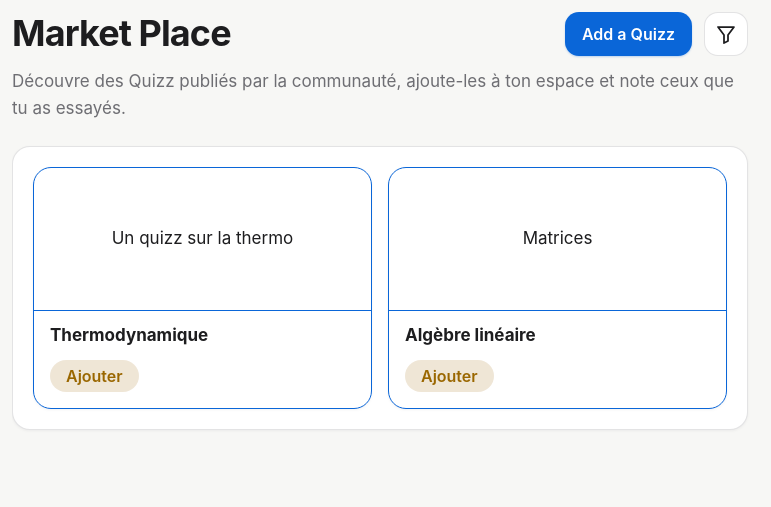
Test: MarketplacePage › filters listings by title or description behind the filter icon
Expected: the text "Thermodynamique" is shown, [50,325,208,345]
Click the button named "Filtrer" at (726, 34), box [704,12,748,56]
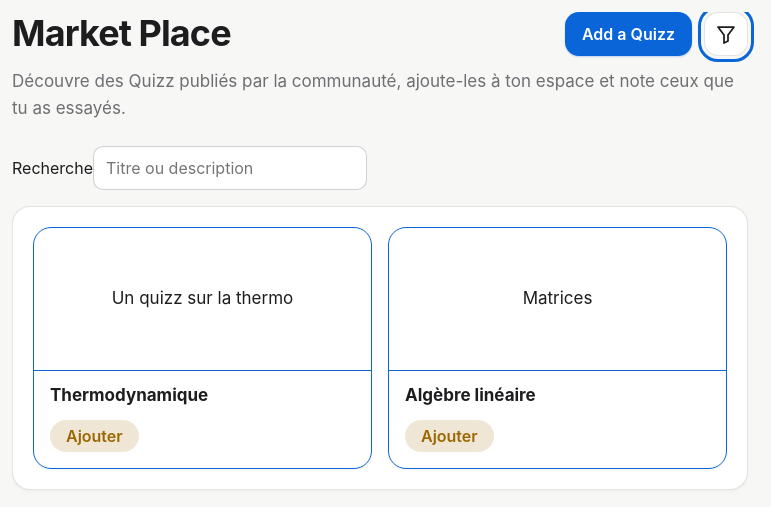
Type "algèbre" into the field labelled "Recherche" at (230, 168), box [93,146,367,190]
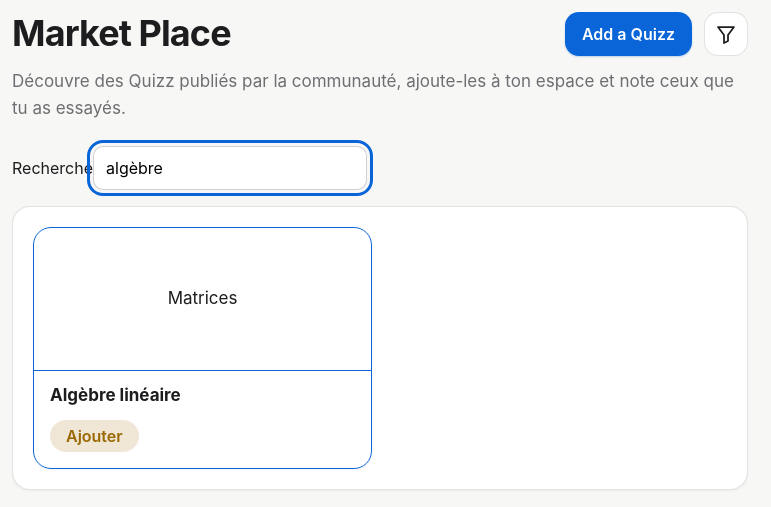
Expected: the text "Algèbre linéaire" is shown, [50,385,181,405]
Result: the button "Thermodynamique" is gone
